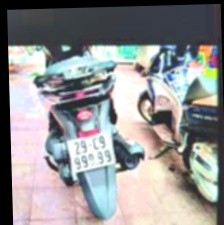Bien-so: (64, 119, 115, 163)
